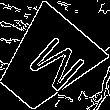M_SW: (12, 28, 81, 96)
